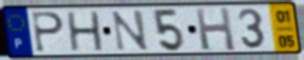3: (237, 7, 269, 51)
5: (149, 7, 187, 53)
H: (193, 6, 238, 53), (65, 10, 106, 53)
N: (110, 8, 151, 53)
P: (30, 10, 66, 54)
